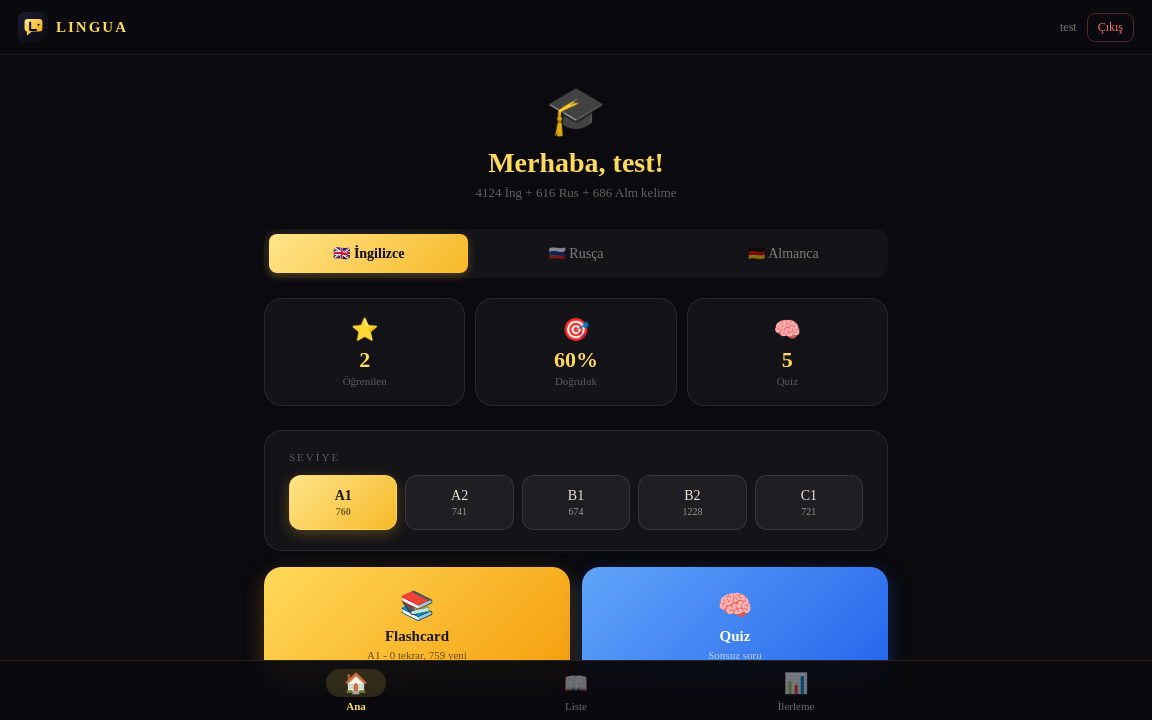
Test: şifre değiştir: İlerleme ekranında hesap bölümü görünür, form açılır
Click the button "📊 İlerleme" at [796, 690], box [686,661,906,719]
(page scrolled)
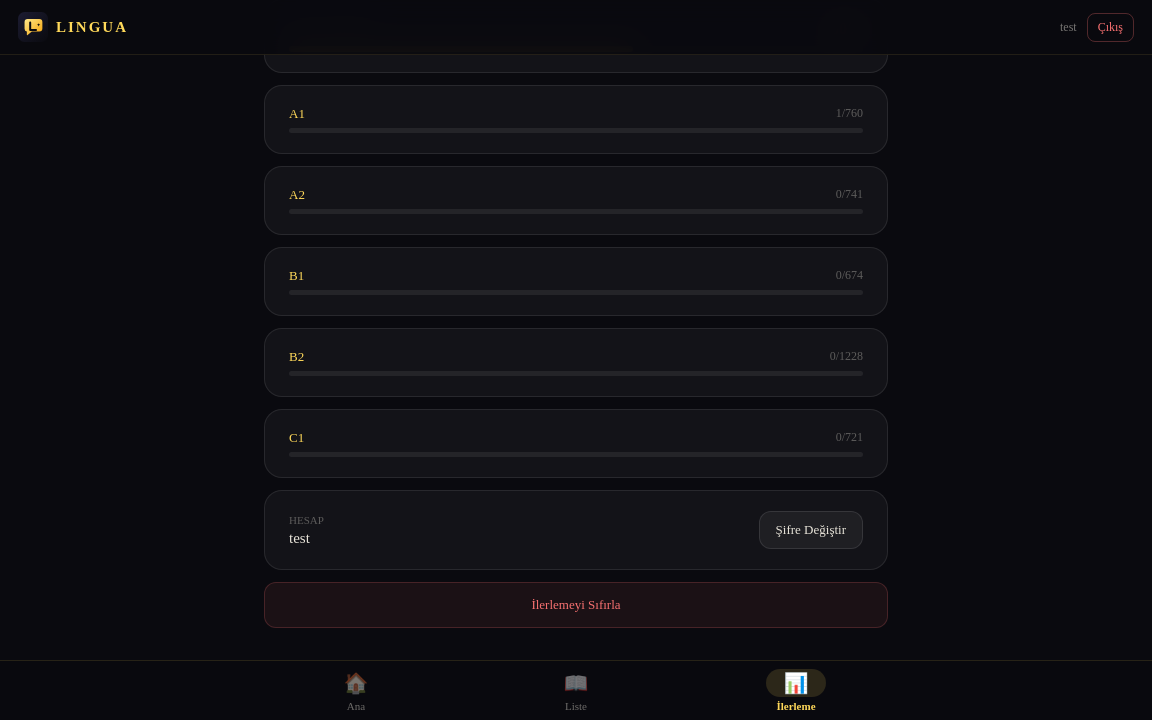
expect the text "test" is shown: met, box [1060,20,1077,34]
expect the text "HESAP" is shown: met, box [289,514,324,526]
Click the button "Şifre Değiştir" at [811, 530], box [759,511,863,549]
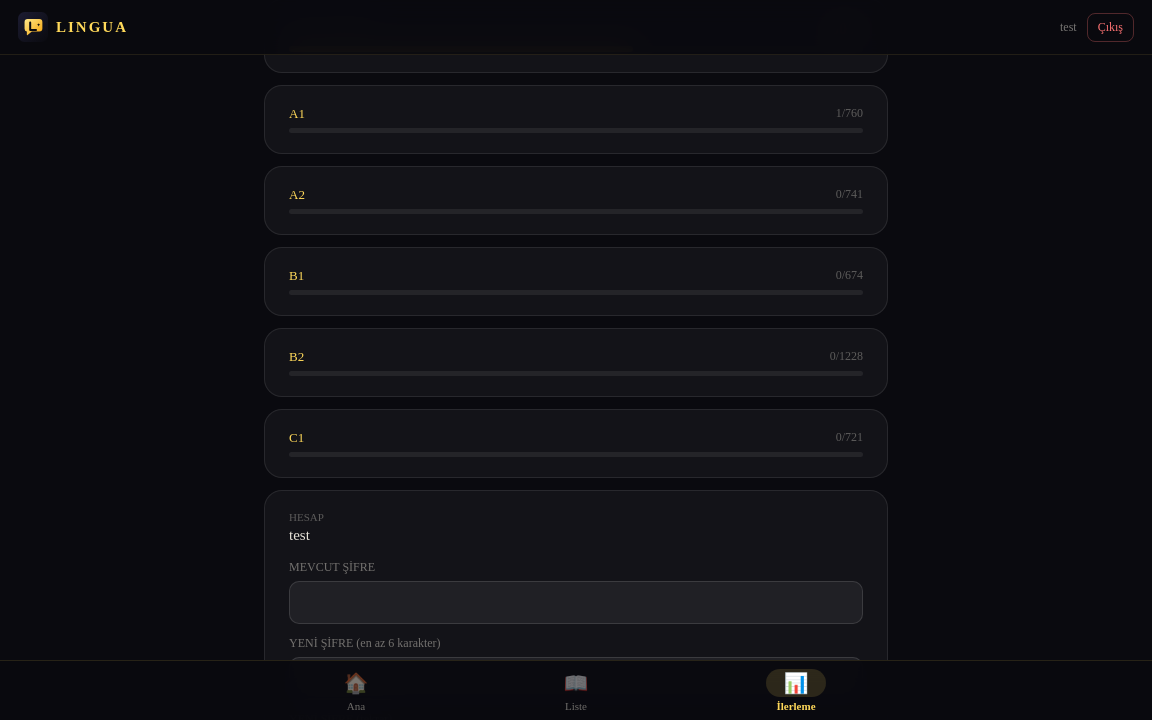
expect the number of password fields is 3: met
